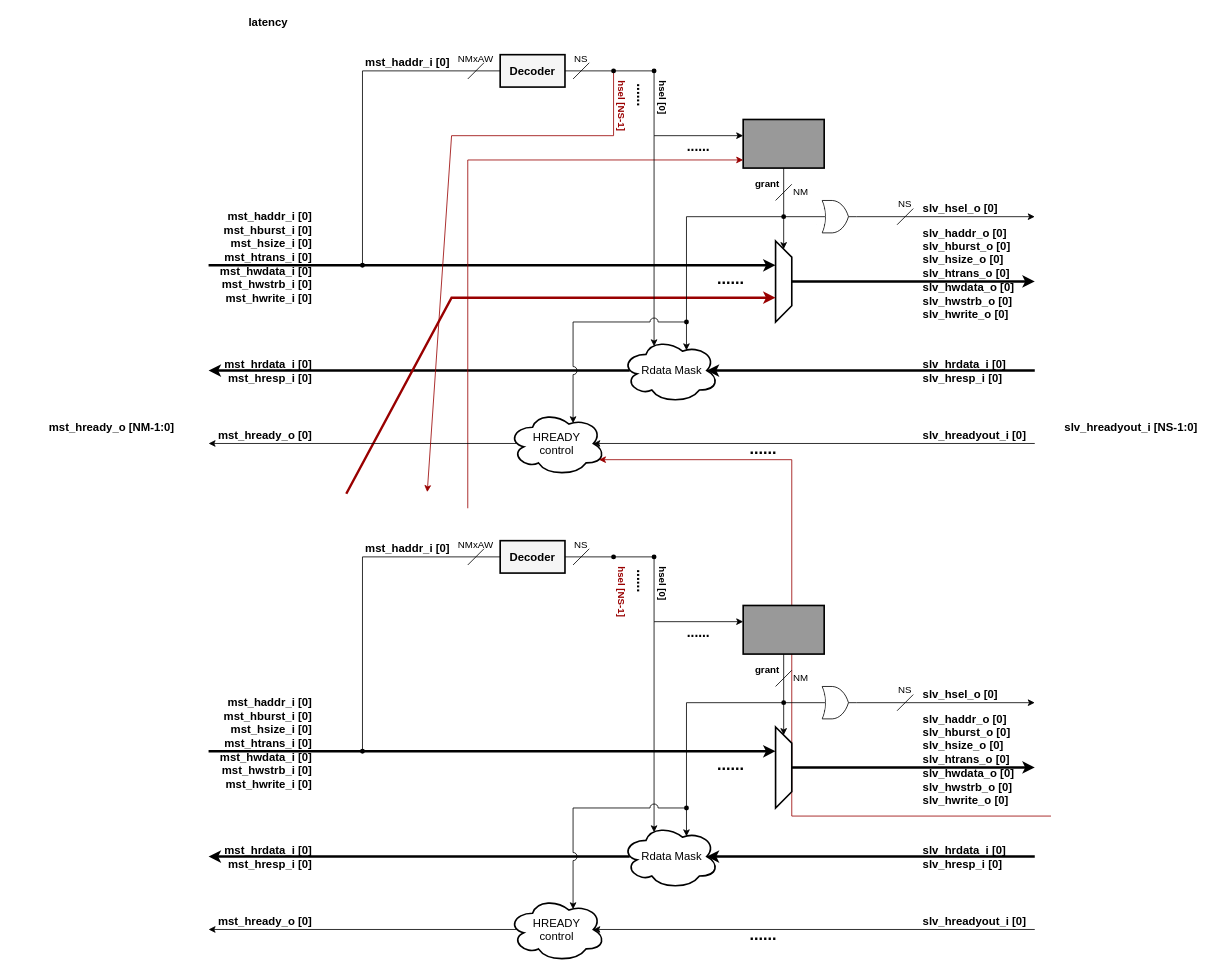
The diagram is 1226 pixels wide and 976 high, and some of its shapes have lost their labels. Each missing label, with the box of its shape:
A rbiter #(NS-1): (742, 604, 825, 654)
A rbiter #0: (742, 118, 825, 168)
